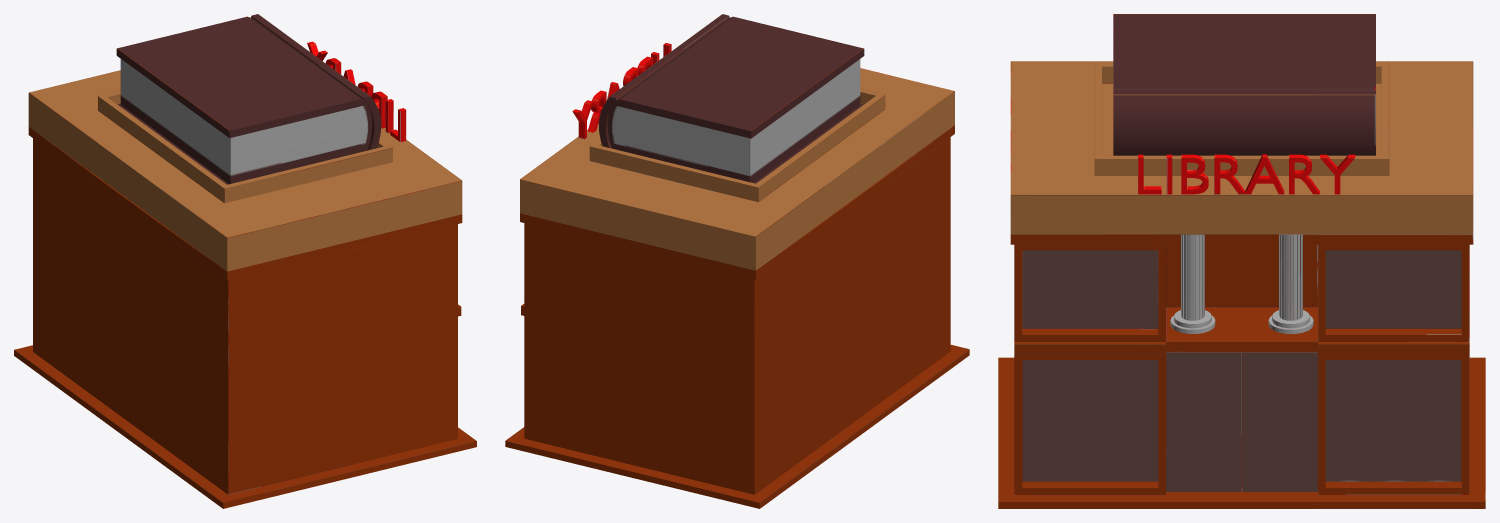
File: 도서관.fbx
3 renders of one model, left to right at view 1: azimuth 30°, elevation 25°; view 2: azimuth 150°, elevation 25°; view 3: azimuth 270°, elevation 25°, orthographic. The views are drawn at different scales.
Parts seen in each view (by area): view 1: Library; view 2: Library; view 3: Library.
Part boxes in pixels (x1=…): Library: x1=14, y1=14, x2=476, y2=508; Library: x1=505, y1=14, x2=969, y2=508; Library: x1=998, y1=14, x2=1485, y2=508.
Size of the model in its own units: 175 by 216 by 250.
1 material, 1 textured.
